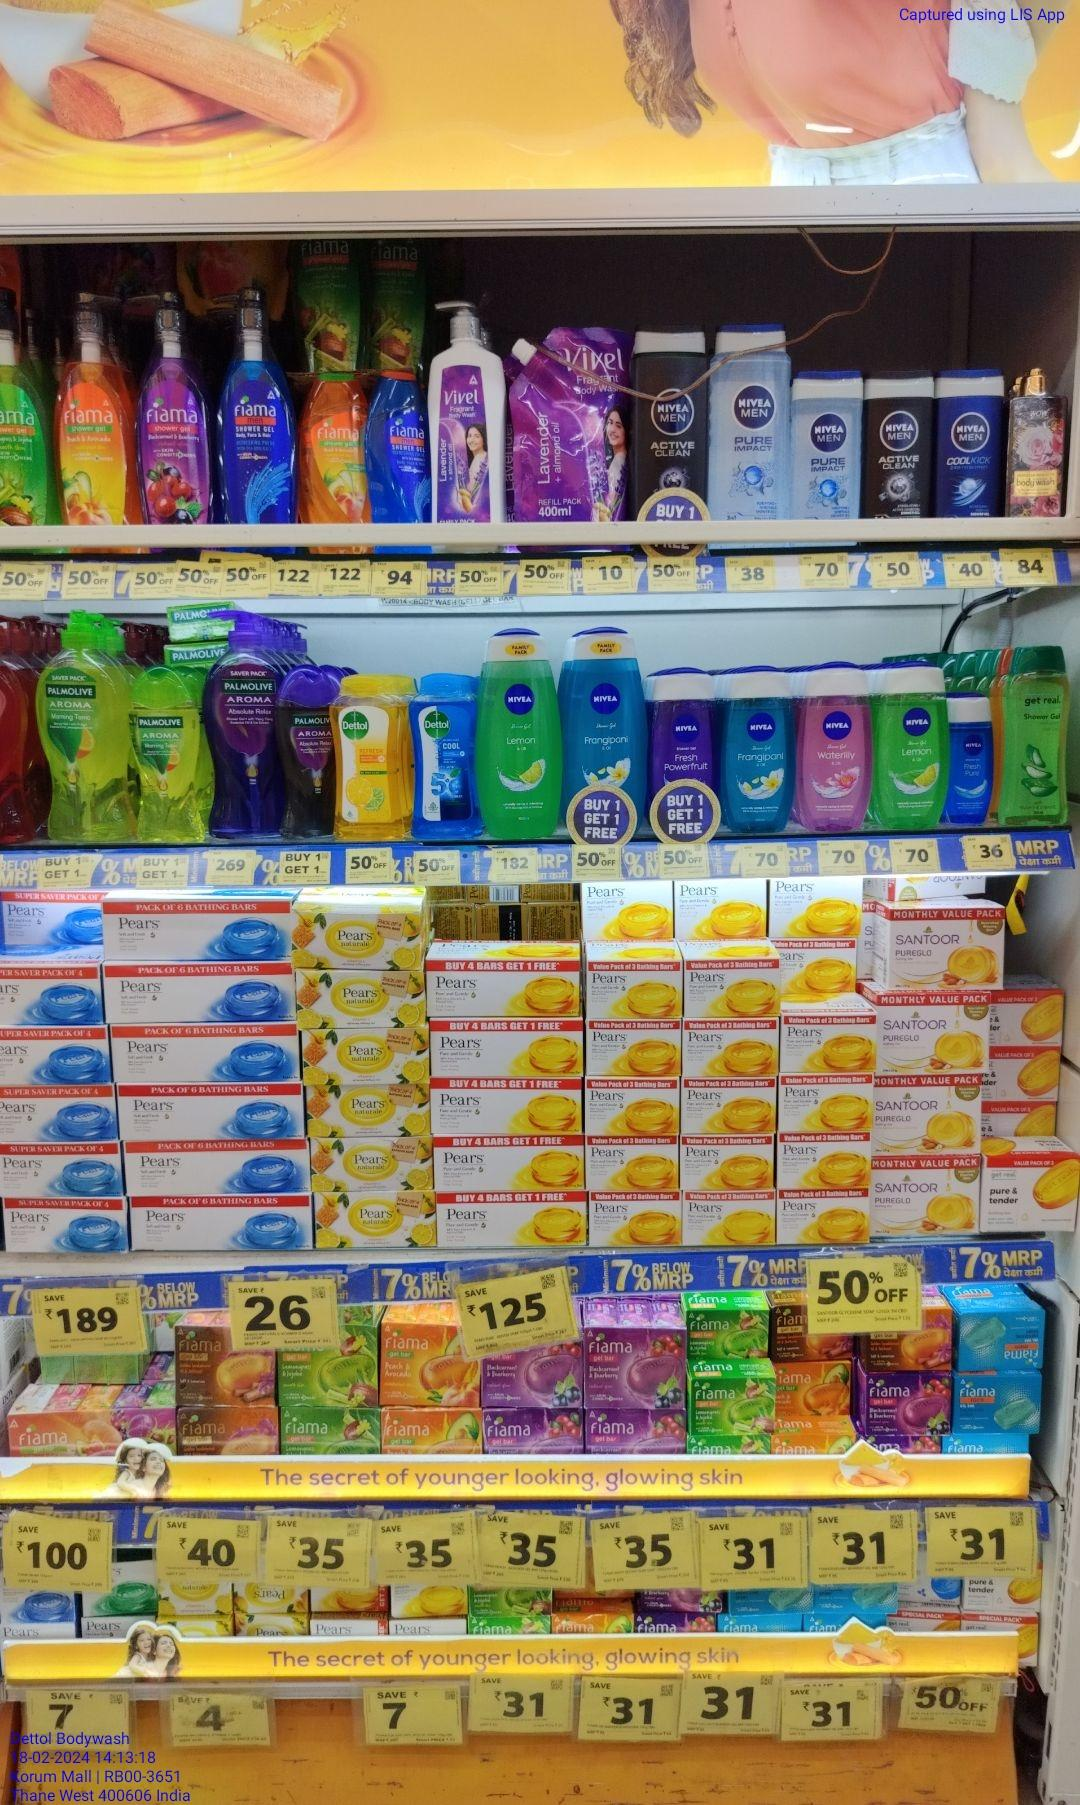Dettol_Bodywash_Cool: (409, 672, 477, 845)
Dettol_Bodywash_Refresh: (339, 676, 406, 841)
Nivea_Shower_Gel_Frangipani_and_Oil_250ML: (570, 626, 644, 796), (732, 671, 789, 837)
Nivea_Shower_Gel_Lemon_and_Oil_250ML: (486, 630, 563, 842), (878, 663, 948, 832)
Nivea_Shower_Gel_Waterlily_and_Oil_250ML: (801, 660, 870, 836)
Palmolive_Aroma_Morning_Tonic_Shower_Gel_250ML: (123, 665, 207, 847)
Palmolive_Aroma_Relax_250ML: (280, 662, 337, 842)
